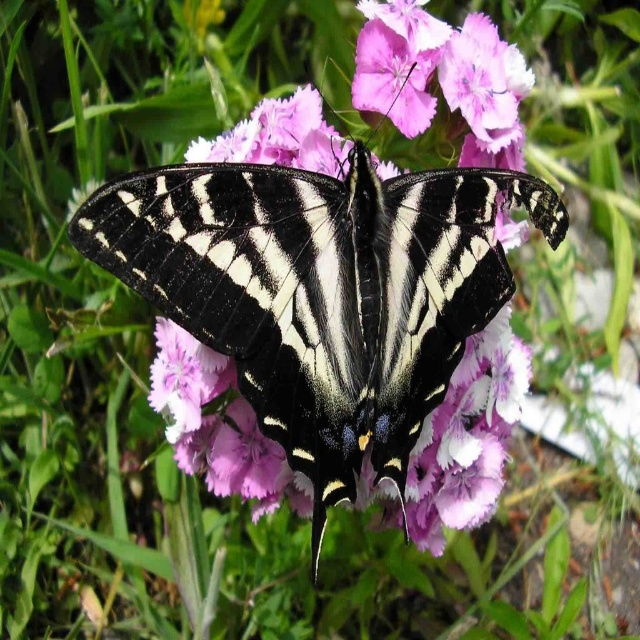Butterfly: (66, 62, 568, 586)
